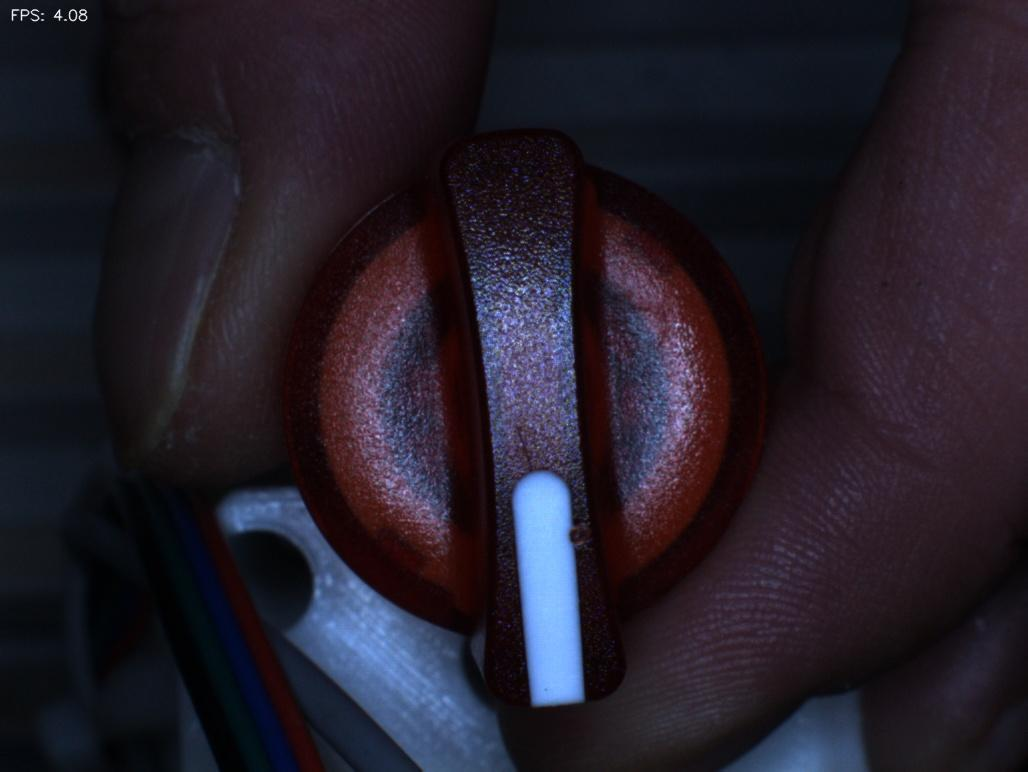Choc: (539, 495, 620, 578)
